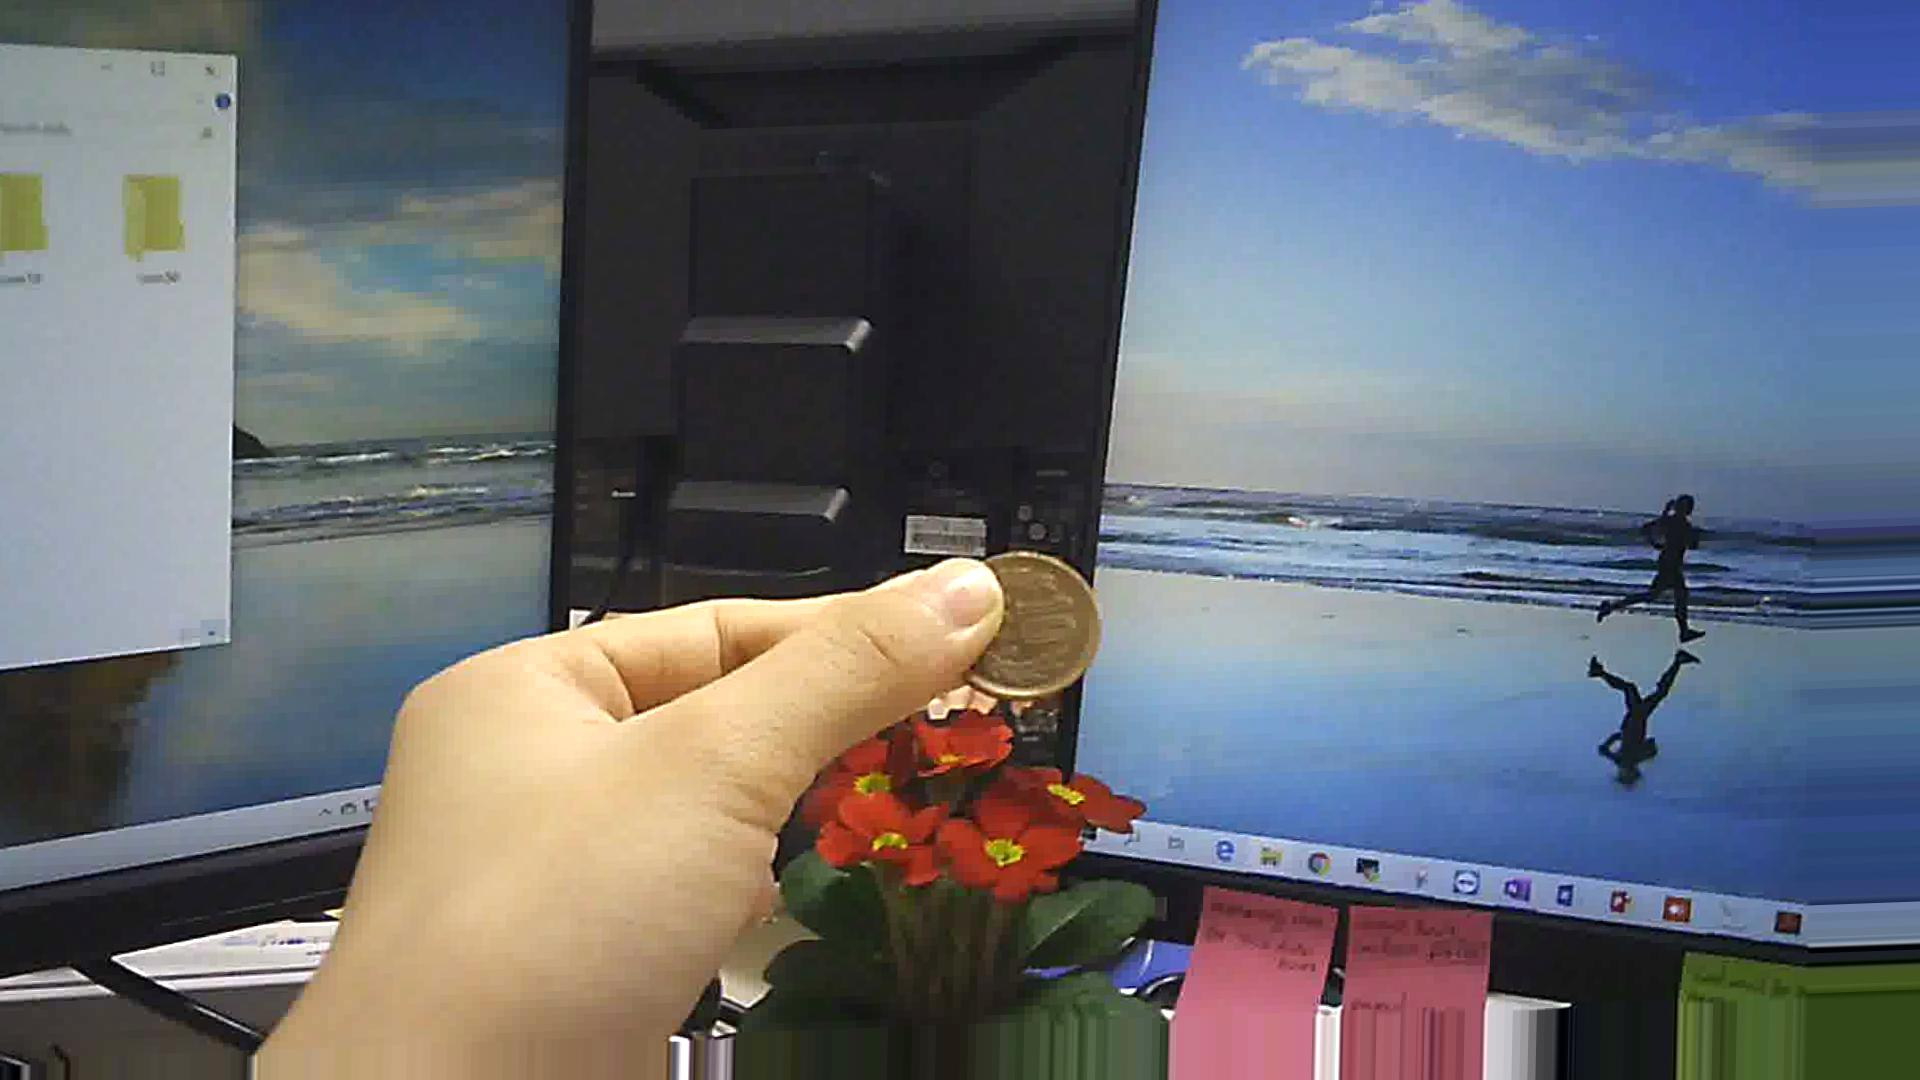10 Yen: (928, 545, 1098, 717)
